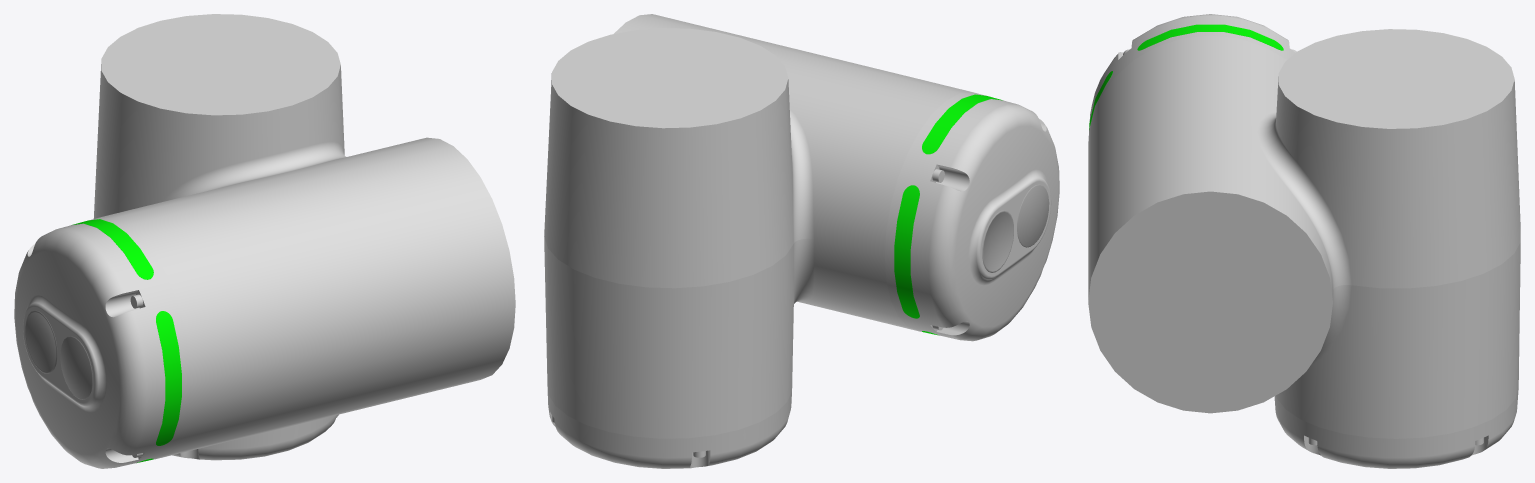
3 renders of one model, left to right at view 1: azimuth 30°, elevation 25°; view 2: azimuth 150°, elevation 25°; view 3: azimuth 270°, elevation 25°, orthographic.
Parts seen in each view (by area): view 1: CRB15000_10kg-152_Omnicore_rev00_LINK05_CAD v1; view 2: CRB15000_10kg-152_Omnicore_rev00_LINK05_CAD v1; view 3: CRB15000_10kg-152_Omnicore_rev00_LINK05_CAD v1.
Part boxes in pixels (left/top/right/bottom): CRB15000_10kg-152_Omnicore_rev00_LINK05_CAD v1: left=14, top=14, right=515, bottom=468; CRB15000_10kg-152_Omnicore_rev00_LINK05_CAD v1: left=544, top=14, right=1059, bottom=468; CRB15000_10kg-152_Omnicore_rev00_LINK05_CAD v1: left=1088, top=14, right=1520, bottom=468.
Size of the model in its own units: 19.51 by 16.8 by 18.64.
